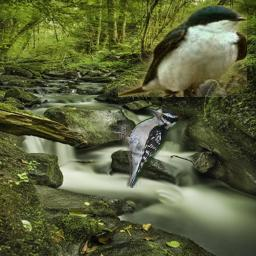Swallow: (118, 5, 247, 97)
Woodpecker: (112, 108, 179, 188)
